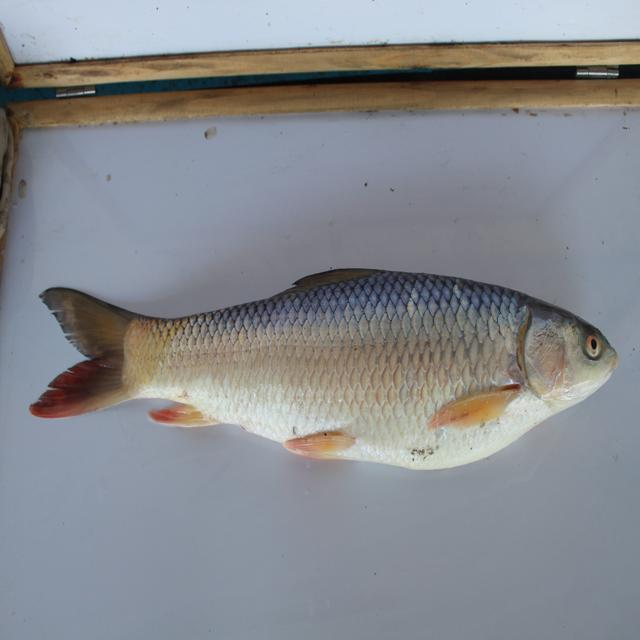Mori: (34, 271, 634, 470)
